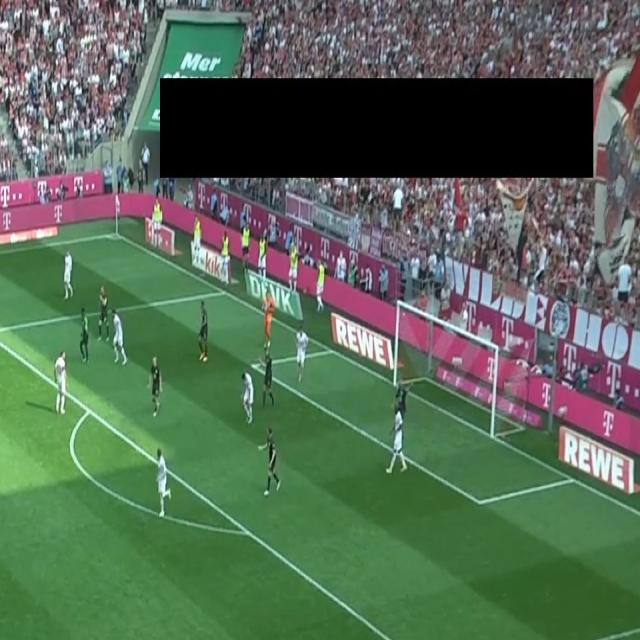ball: (262, 302, 268, 313)
